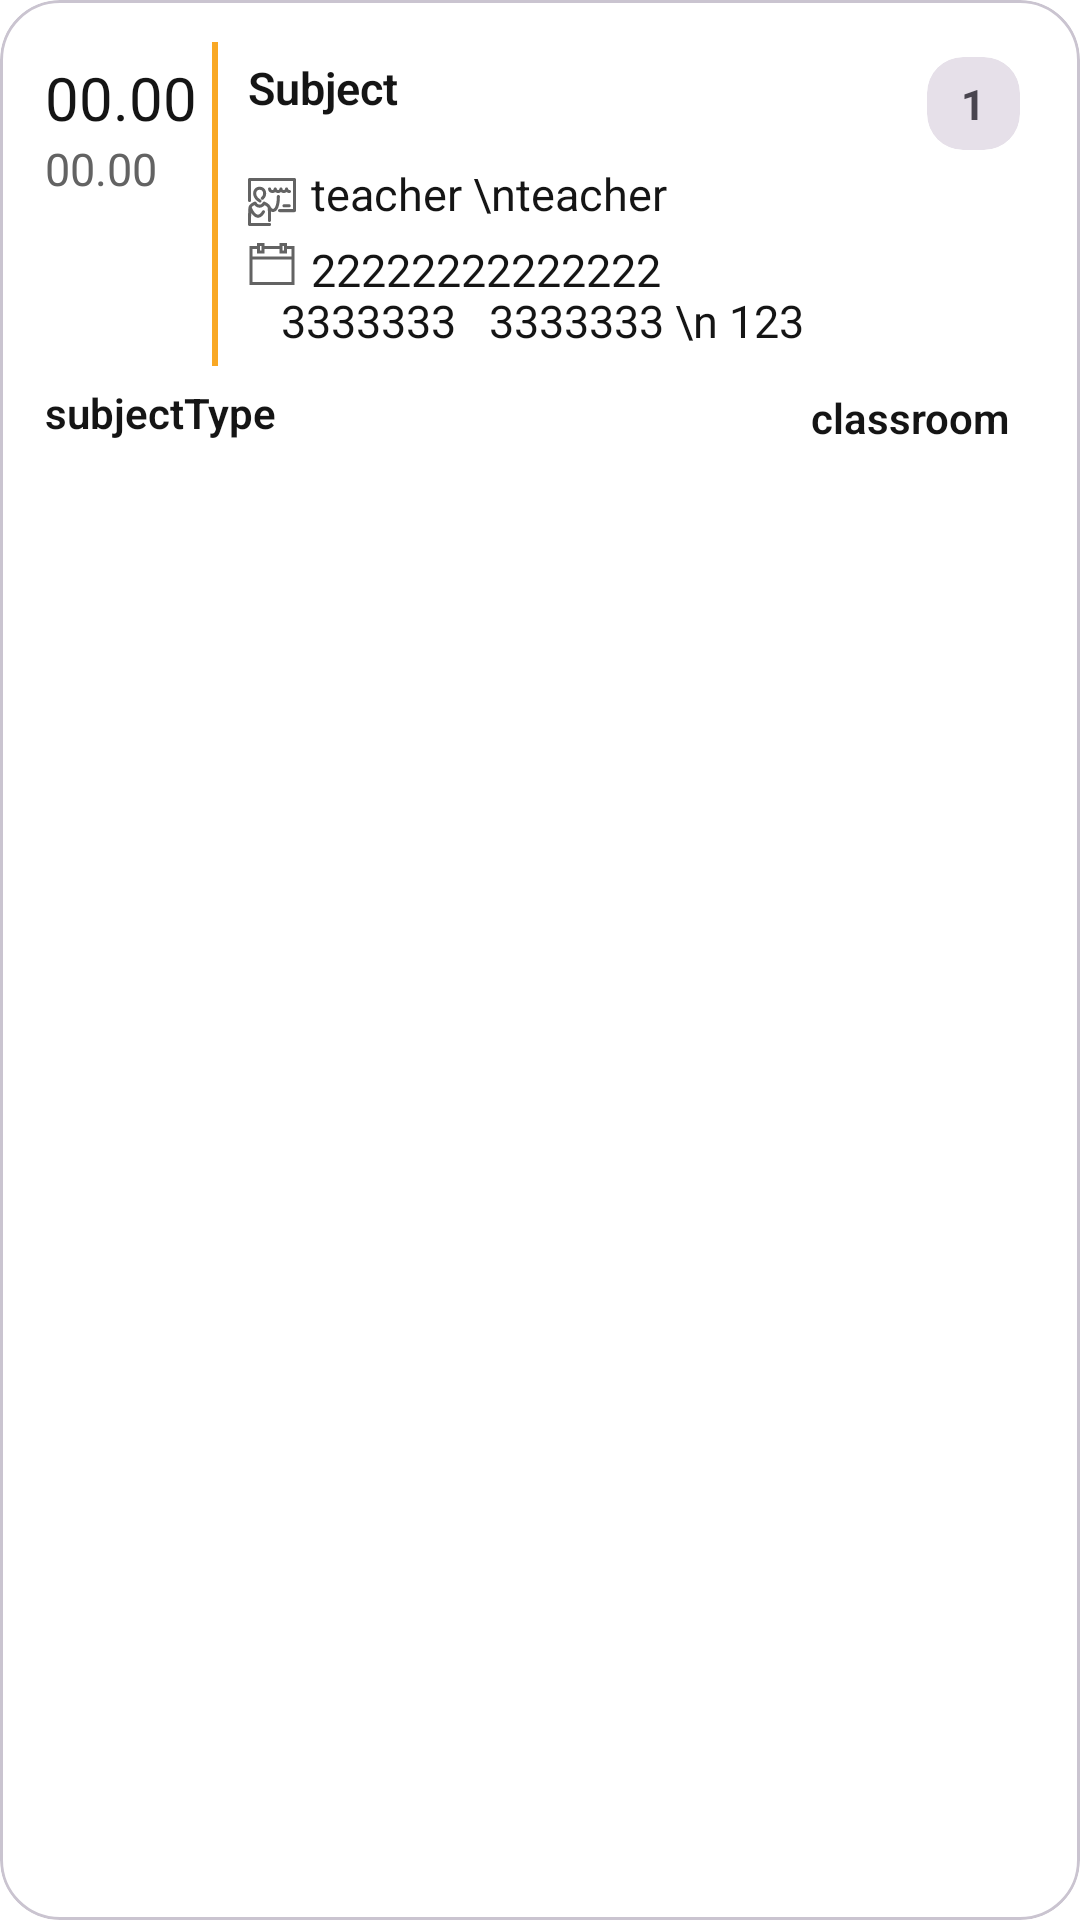

Screen size 1080w x 1920h. Icon name, then its center in pixels as point (x, y):
date: point (272, 264)
